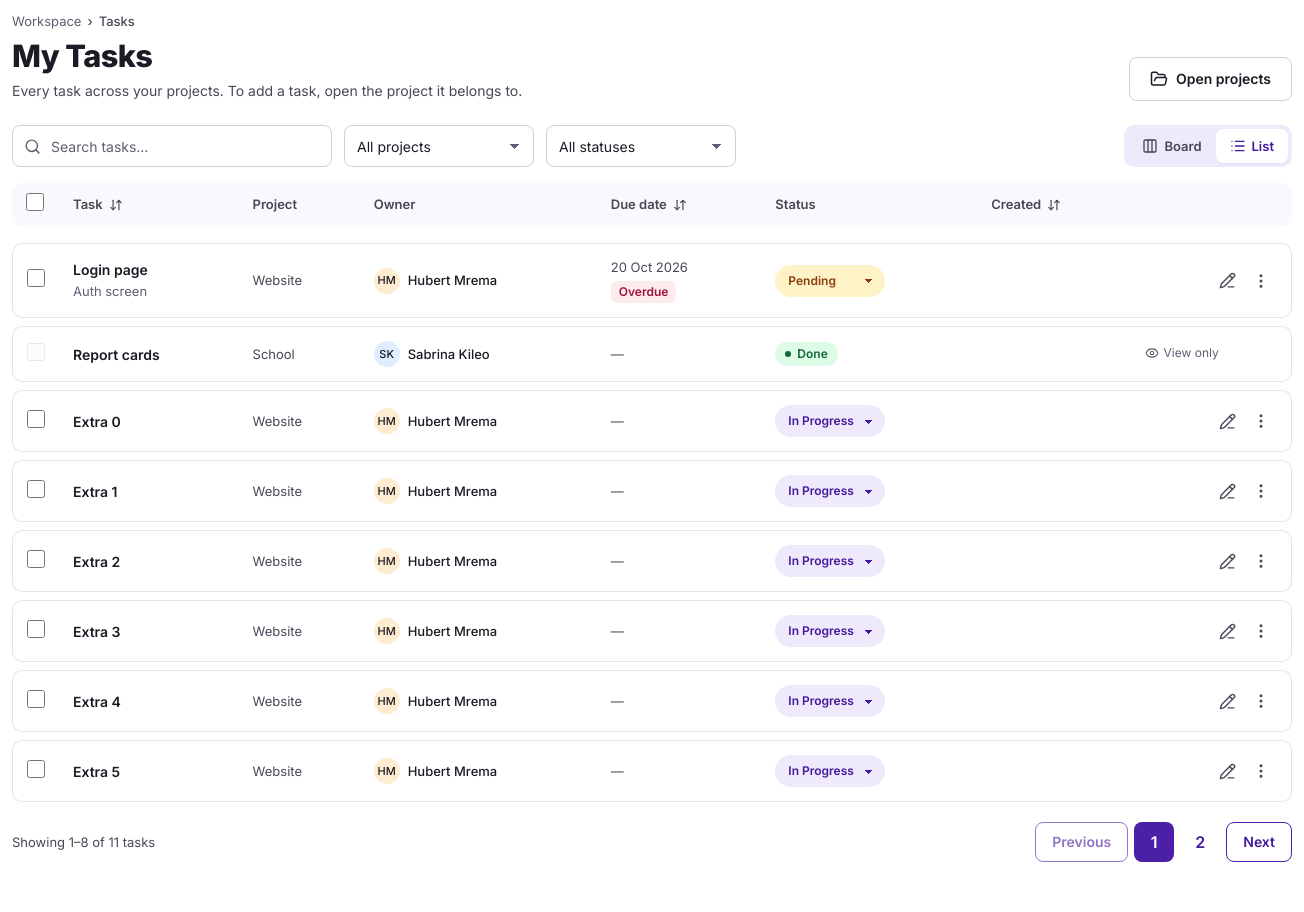
hides the owner filter from members and offers a clear-filters escape hatch
Check: the heading "My Tasks" is shown, box [12,36,152,74]
Type "no such task" into the search field labelled "Search tasks" at (172, 146), box [12,125,332,167]
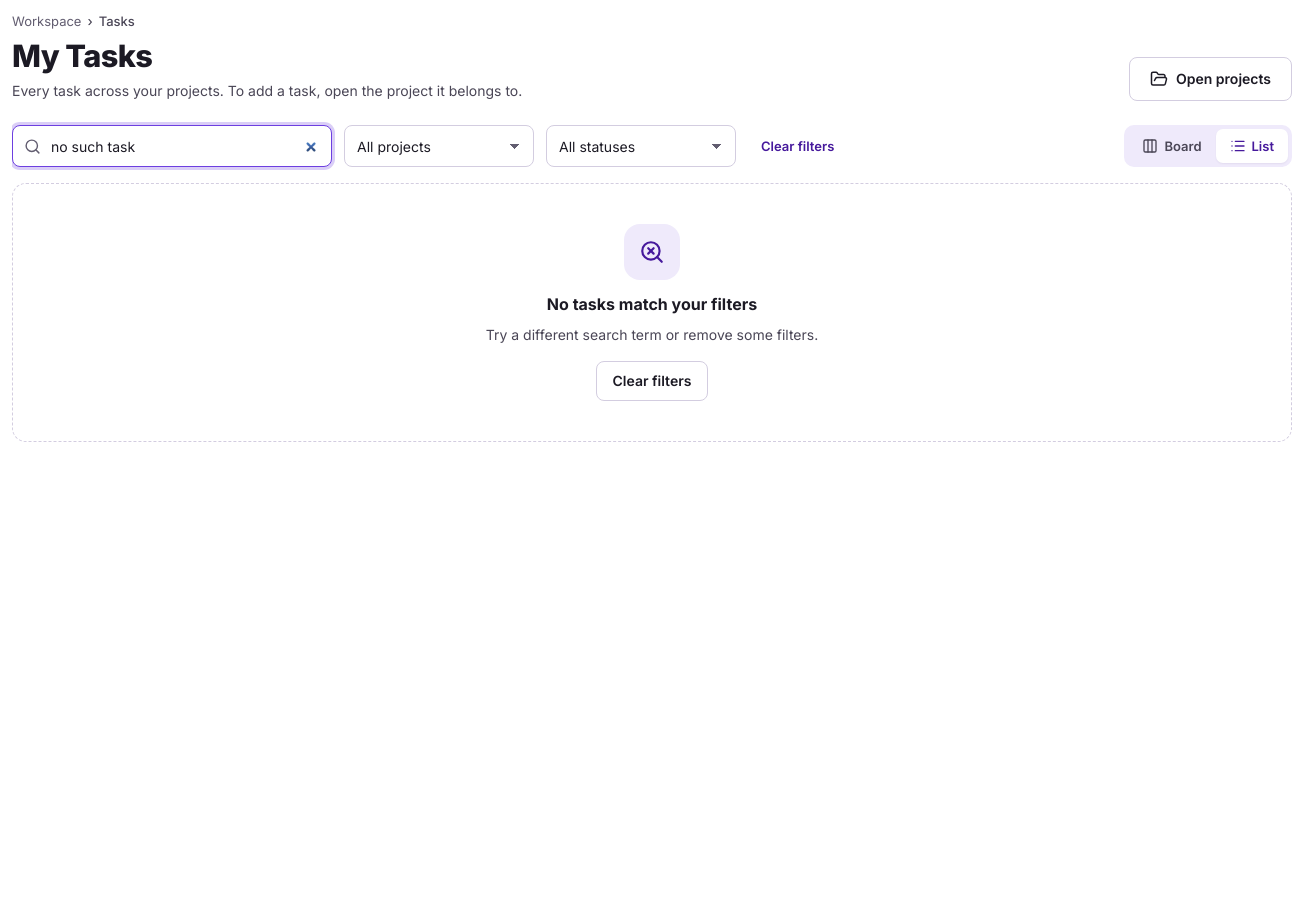
Check: the heading "No tasks match your filters" is shown, box [547,292,757,316]
Click the 1st button "Clear filters" at (798, 146), box [748,130,847,162]
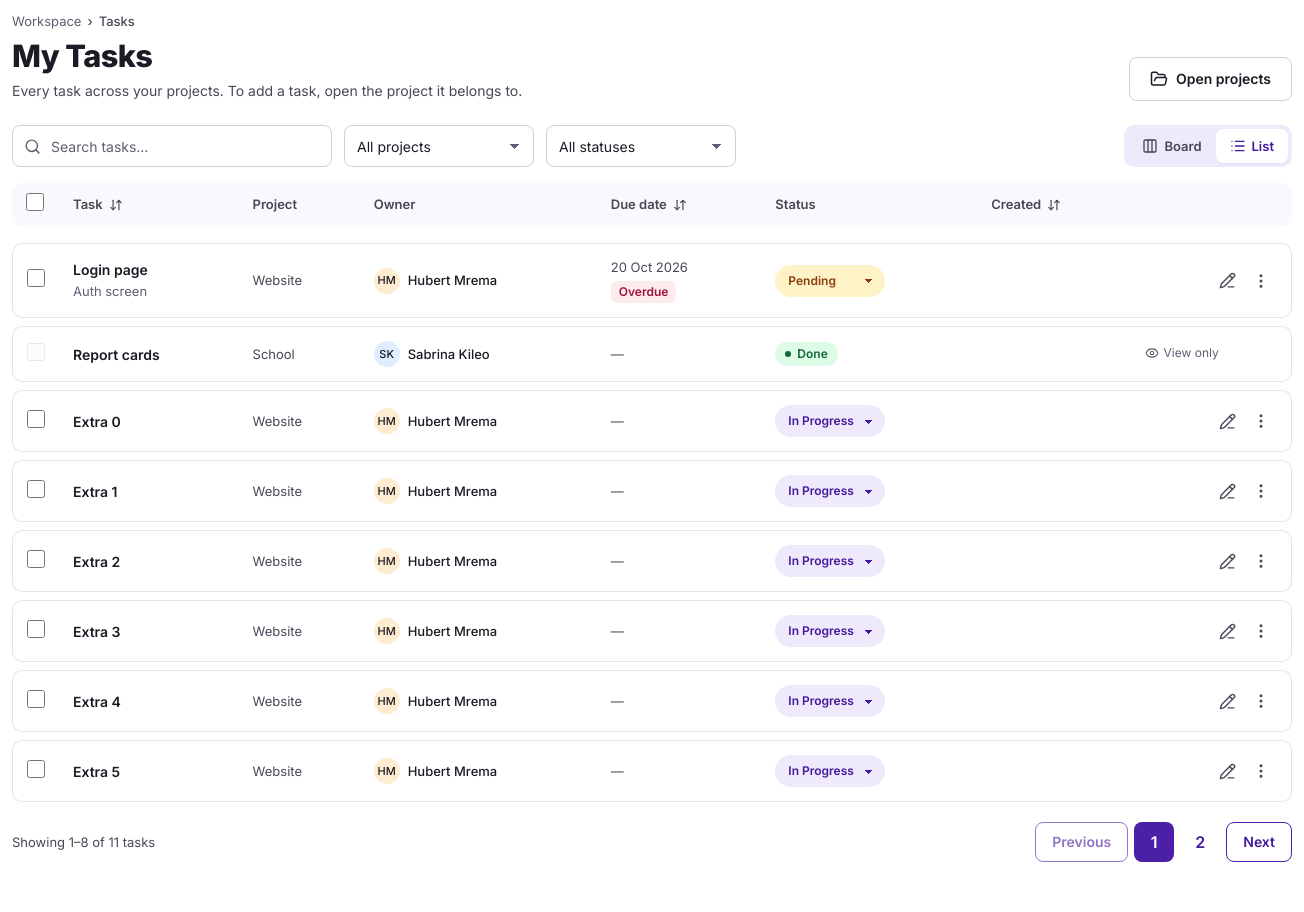
Check: the text "Showing 1–8 of 11 tasks" is shown, box [12,833,155,852]
